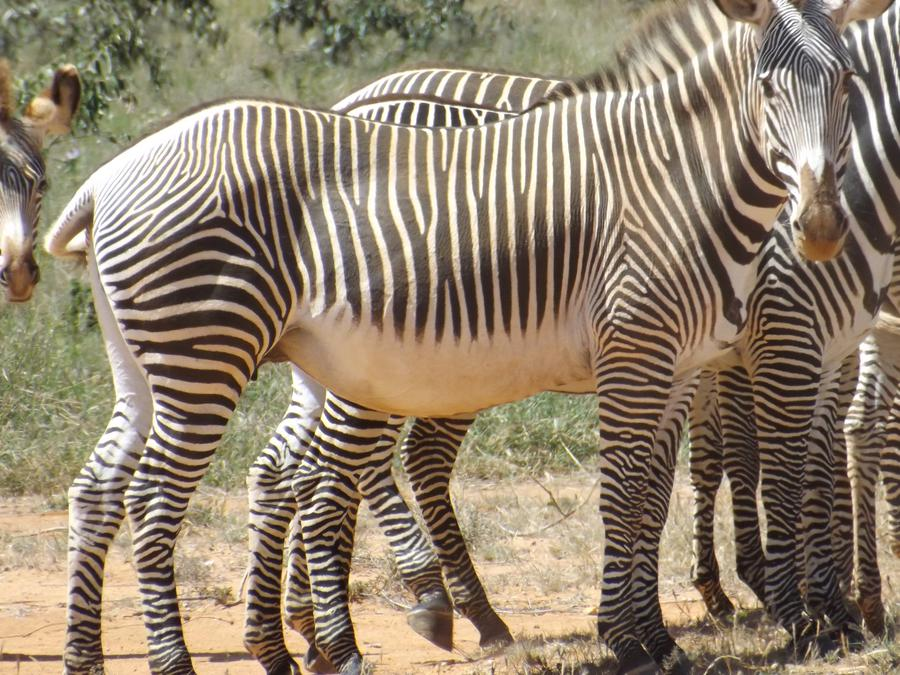zebra_grevys: (76, 76, 677, 370)
